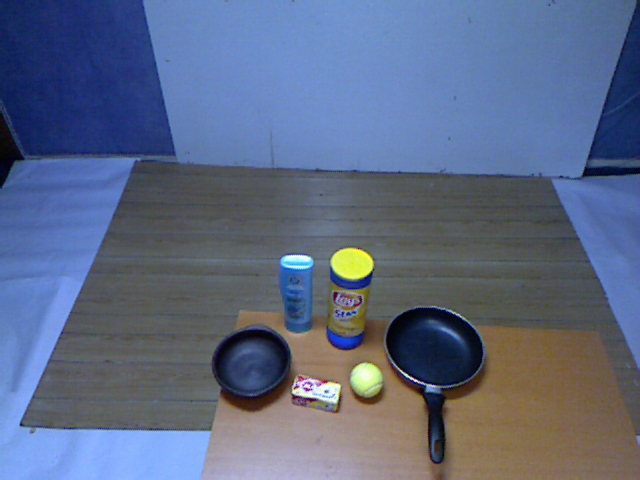balsamo: (272, 247, 319, 334)
greda: (207, 319, 295, 406)
mantequilla: (287, 366, 344, 416)
papas: (320, 242, 378, 354)
pelota: (344, 360, 387, 405)
sarten: (379, 303, 490, 469)
